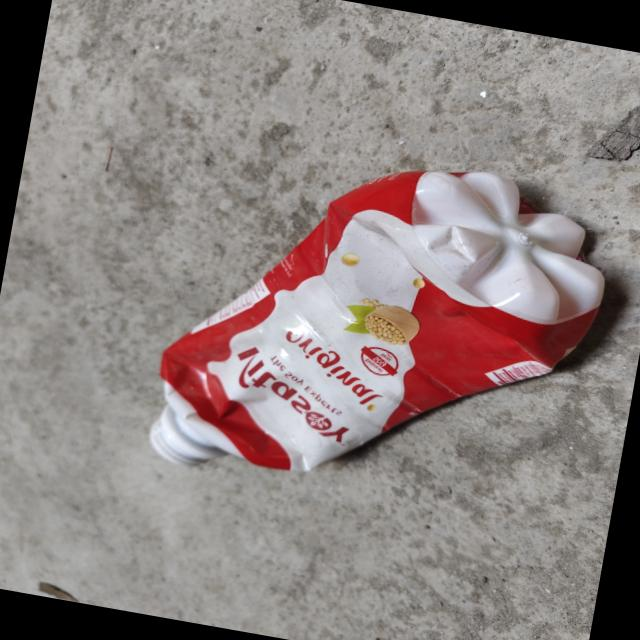Bottle: (149, 167, 607, 474)
